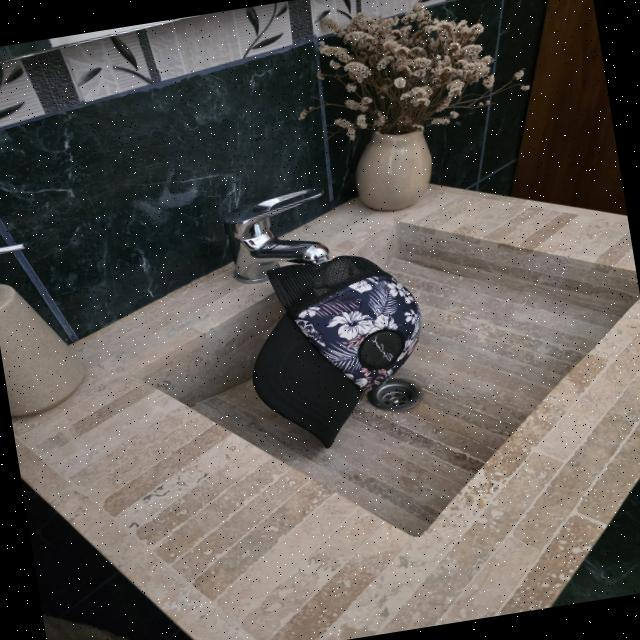Gorra: (227, 248, 436, 459)
